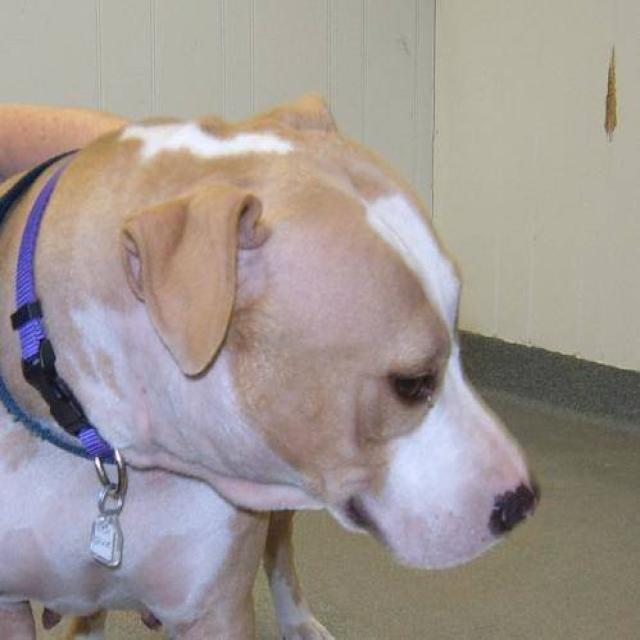Dog: (114, 56, 551, 580)
